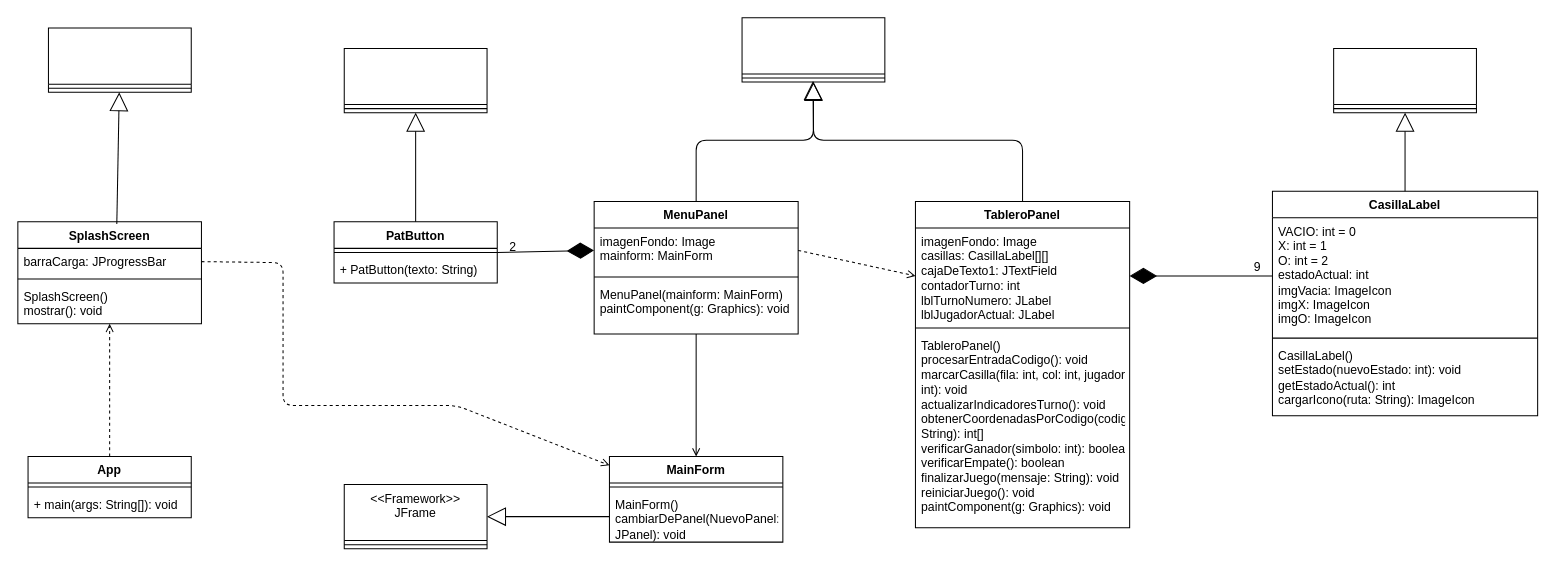
Some shapes in this 1556 by 567 pixel diagram are drawn without their labels. Each missing label, with the centre of its shape:
"<<Framework>> JButton" belongs at pixel 415 80.
"<<Framework>> JLabel" belongs at pixel 1404 80.
"<<Framework>> JPanel" belongs at pixel 813 49.
"<<Framework>> JWindow" belongs at pixel 119 59.
